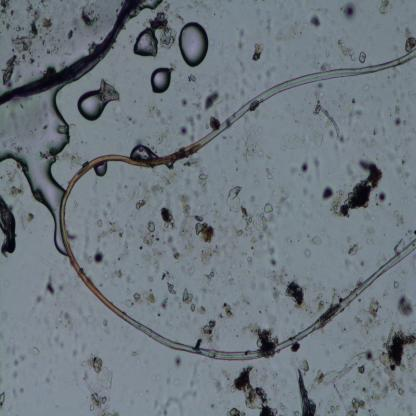Air bubble: (0, 92, 68, 256), (178, 19, 210, 68), (76, 88, 106, 122), (132, 27, 159, 61), (149, 65, 172, 93), (130, 140, 158, 162), (136, 0, 161, 14), (94, 162, 109, 177)
Background material: (223, 178, 284, 267), (338, 156, 387, 218), (231, 365, 277, 415), (312, 87, 358, 137), (378, 323, 416, 374), (82, 354, 113, 414), (360, 359, 404, 401), (159, 371, 199, 413), (134, 175, 175, 212), (178, 190, 200, 256), (264, 239, 286, 301), (295, 357, 317, 414), (193, 220, 220, 264), (13, 18, 40, 61), (0, 196, 19, 256), (151, 8, 176, 48), (242, 120, 266, 160), (181, 286, 208, 318), (355, 301, 382, 332), (52, 306, 78, 338), (192, 322, 222, 349), (186, 156, 208, 192), (250, 326, 277, 354), (284, 282, 308, 312), (125, 291, 156, 312), (94, 220, 126, 240), (141, 218, 161, 250), (394, 292, 416, 320), (99, 76, 121, 103), (2, 54, 18, 90), (342, 392, 365, 416), (338, 35, 358, 62), (81, 1, 101, 28), (166, 233, 181, 264), (202, 90, 223, 112), (282, 132, 305, 152), (217, 300, 236, 324), (160, 206, 176, 234), (306, 124, 326, 146), (0, 0, 15, 29), (161, 271, 178, 296), (293, 160, 312, 181), (320, 180, 336, 204), (340, 3, 359, 23), (403, 26, 416, 54), (250, 37, 264, 63), (86, 249, 106, 265), (44, 276, 57, 298), (224, 404, 247, 416), (393, 112, 406, 133), (4, 185, 23, 199), (40, 15, 55, 32), (20, 212, 35, 229), (202, 267, 217, 284), (108, 266, 126, 280), (394, 235, 406, 256), (349, 240, 364, 256), (236, 26, 245, 52), (309, 13, 322, 31), (30, 340, 41, 360), (289, 343, 303, 358), (378, 1, 392, 15), (209, 114, 220, 131), (159, 294, 169, 311), (309, 234, 323, 246), (180, 97, 189, 113), (187, 75, 200, 86), (0, 390, 7, 409), (178, 126, 189, 138), (358, 50, 367, 64), (66, 26, 74, 40)
Cellulose filter fibre: (307, 350, 366, 390)
Cotton: (0, 0, 134, 104)
Microfibre: (59, 47, 416, 361)
